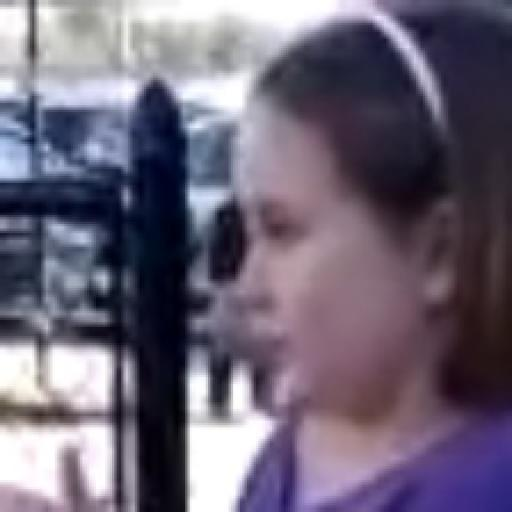Autism: (198, 93, 478, 383)
